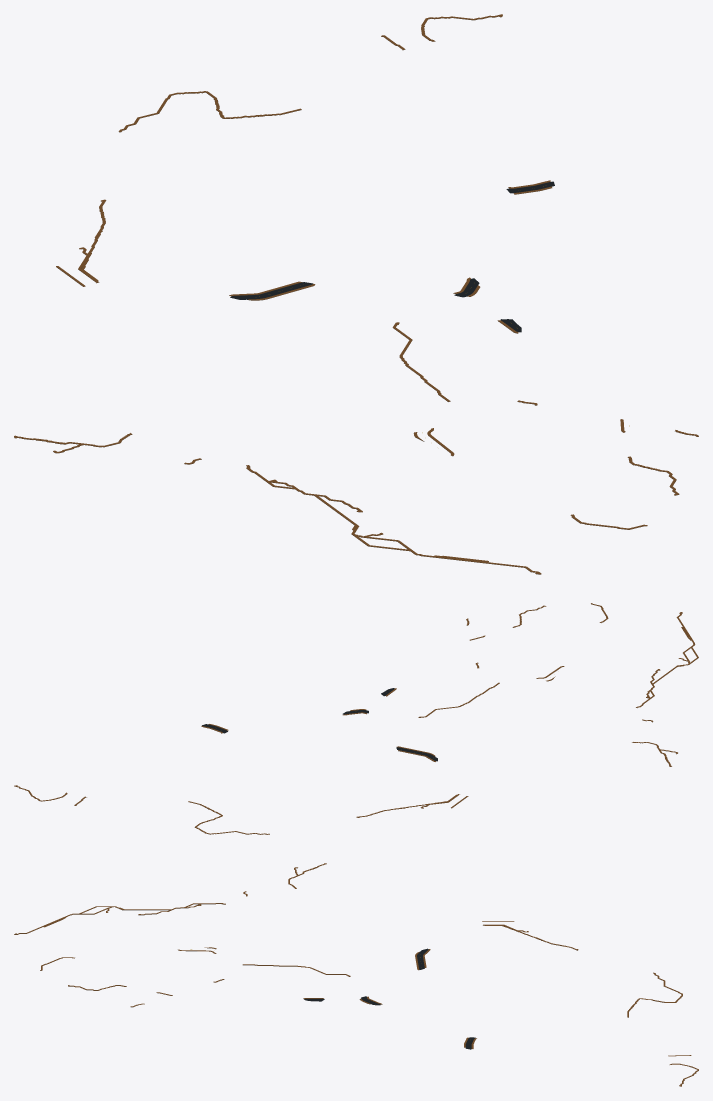
Rendered from SM_Bogota_CallesSecundarias.fbx.
The picture shows the model from 3 angles, top to bottom: view 1: azimuth 30°, elevation 25°; view 2: azimuth 150°, elevation 25°; view 3: azimuth 270°, elevation 25°; orthographic projection. The views are drawn at different scales.
Visible parts, largest first — view 1: SM_Bogota_CallesSecundarias; view 2: SM_Bogota_CallesSecundarias; view 3: SM_Bogota_CallesSecundarias.
Part boxes in pixels (x1,y1,x2,y2): SM_Bogota_CallesSecundarias: (14,14,698,574); SM_Bogota_CallesSecundarias: (14,603,698,834); SM_Bogota_CallesSecundarias: (14,863,698,1086).
Size of the model in its own units: 627 by 812 by 0.2.
